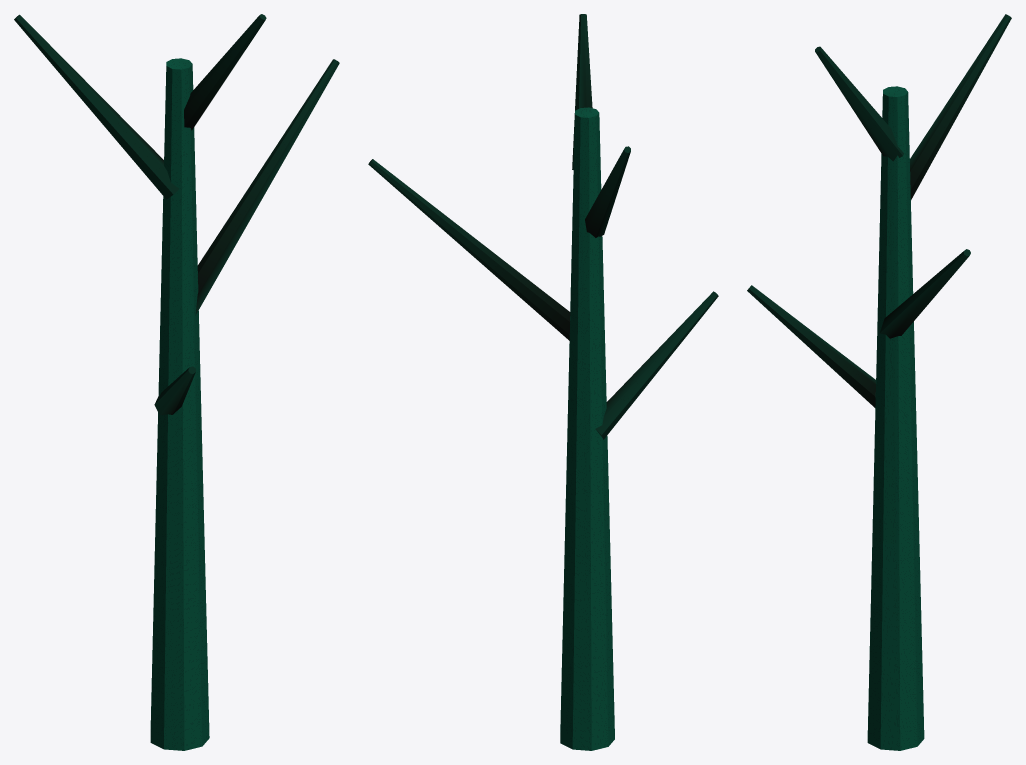
Rendered from dead_tree.glb.
3 renders of one model, left to right at view 1: azimuth 30°, elevation 25°; view 2: azimuth 150°, elevation 25°; view 3: azimuth 270°, elevation 25°, orthographic. The views are drawn at different scales.
Visible parts, largest first — view 1: dead_tree; view 2: dead_tree; view 3: dead_tree.
Boxes of the visible parts, x1,y1,x2,y2 form: dead_tree: (14,14,339,750); dead_tree: (368,14,718,750); dead_tree: (747,14,1011,750).
Size of the model in its own units: 1.04 by 2.42 by 0.8165.
Materials: 1 (1 with a texture image).
